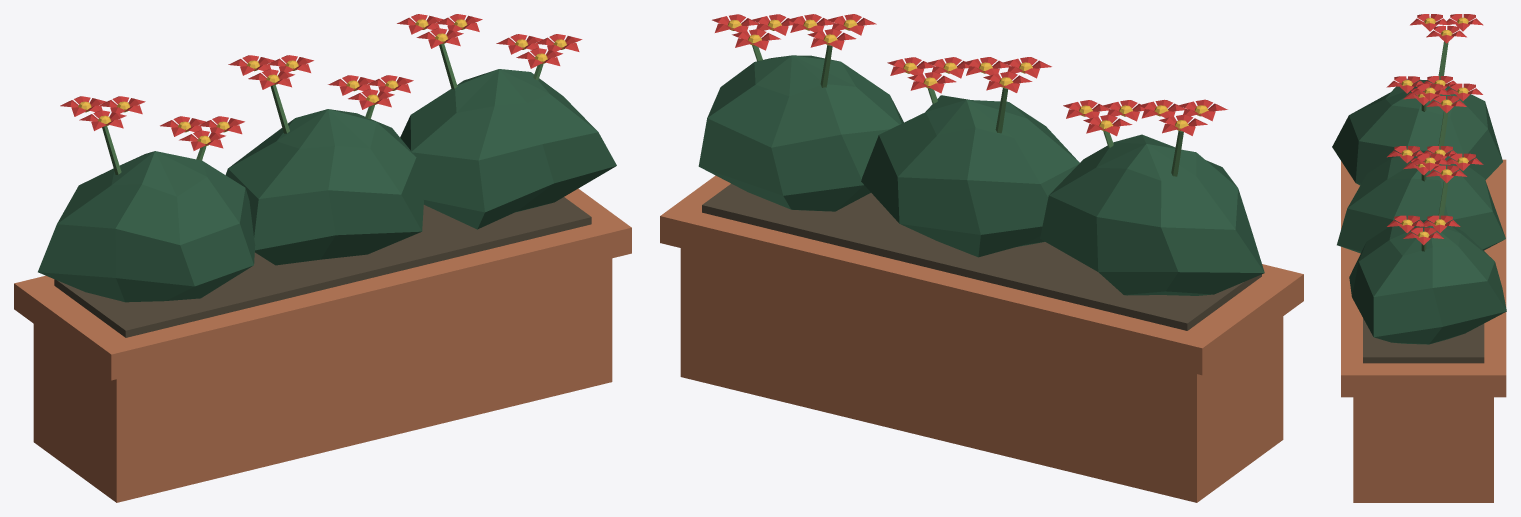
File: b08_geranium_window_box.glb
The picture shows the model from 3 angles, left to right: view 1: azimuth 30°, elevation 25°; view 2: azimuth 150°, elevation 25°; view 3: azimuth 270°, elevation 25°; orthographic projection. The views are drawn at different scales.
Parts seen in each view (by area): view 1: b08_geranium_window_box; view 2: b08_geranium_window_box; view 3: b08_geranium_window_box.
Part boxes in pixels (x1=…): b08_geranium_window_box: x1=14, y1=14, x2=631, y2=502; b08_geranium_window_box: x1=660, y1=14, x2=1303, y2=502; b08_geranium_window_box: x1=1332, y1=14, x2=1506, y2=502.
Bounding box in the file's own units: 1.1 × 0.6665 × 0.3601.
